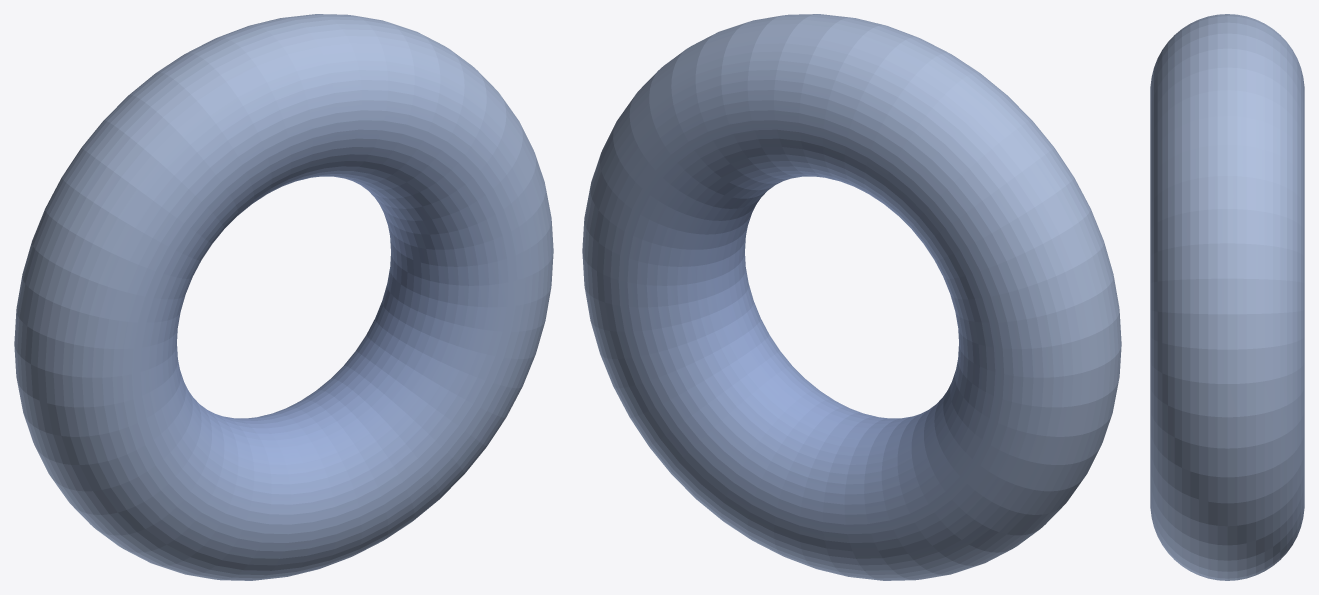
The picture shows the model from 3 angles, left to right: view 1: azimuth 30°, elevation 25°; view 2: azimuth 150°, elevation 25°; view 3: azimuth 270°, elevation 25°; orthographic projection. The views are drawn at different scales.
Parts seen in each view (by area): view 1: world; view 2: world; view 3: world.
Part boxes in pixels (bbox=[...]): world: bbox=[14, 14, 553, 580]; world: bbox=[582, 14, 1121, 580]; world: bbox=[1150, 14, 1304, 580].
Bounding box in the file's own units: 21.07 × 21.03 × 5.72.
